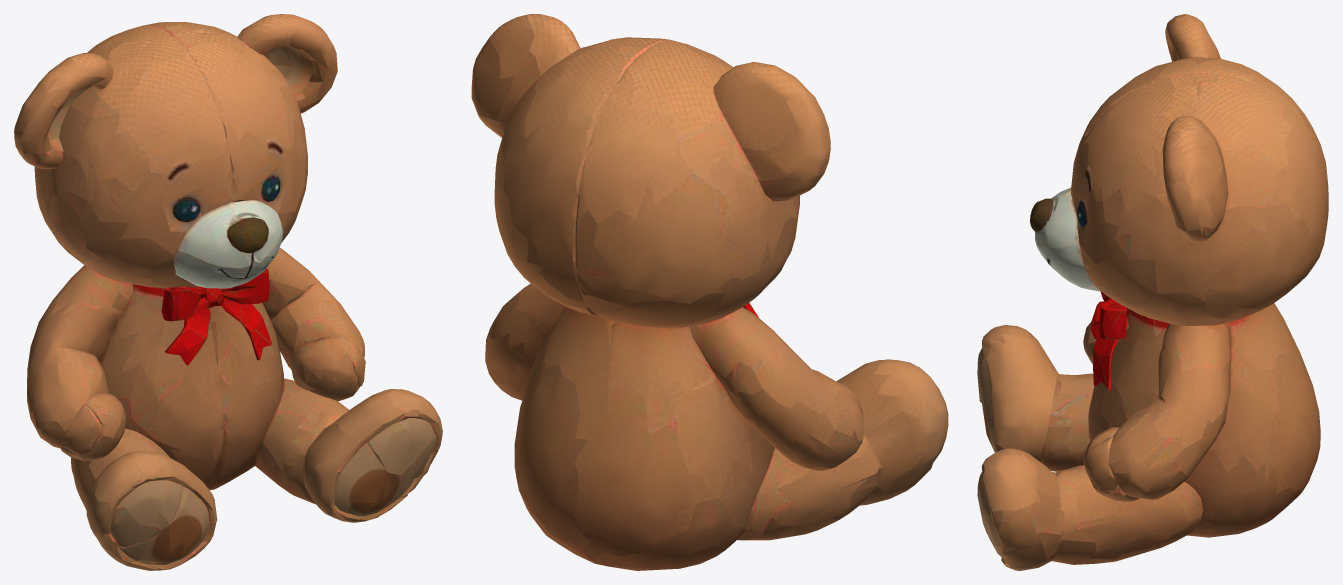
File: bear.glb
The picture shows the model from 3 angles, left to right: view 1: azimuth 30°, elevation 25°; view 2: azimuth 150°, elevation 25°; view 3: azimuth 270°, elevation 25°; orthographic projection. The views are drawn at different scales.
Parts seen in each view (by area): view 1: mesh_node; view 2: mesh_node; view 3: mesh_node.
Boxes of the visible parts, x1=… form: mesh_node: x1=14, y1=14, x2=442, y2=570; mesh_node: x1=471, y1=14, x2=948, y2=570; mesh_node: x1=977, y1=14, x2=1328, y2=570.
Bounding box in the file's own units: 1.55 × 1.9 × 1.36.
Materials: 1 (1 with a texture image).
